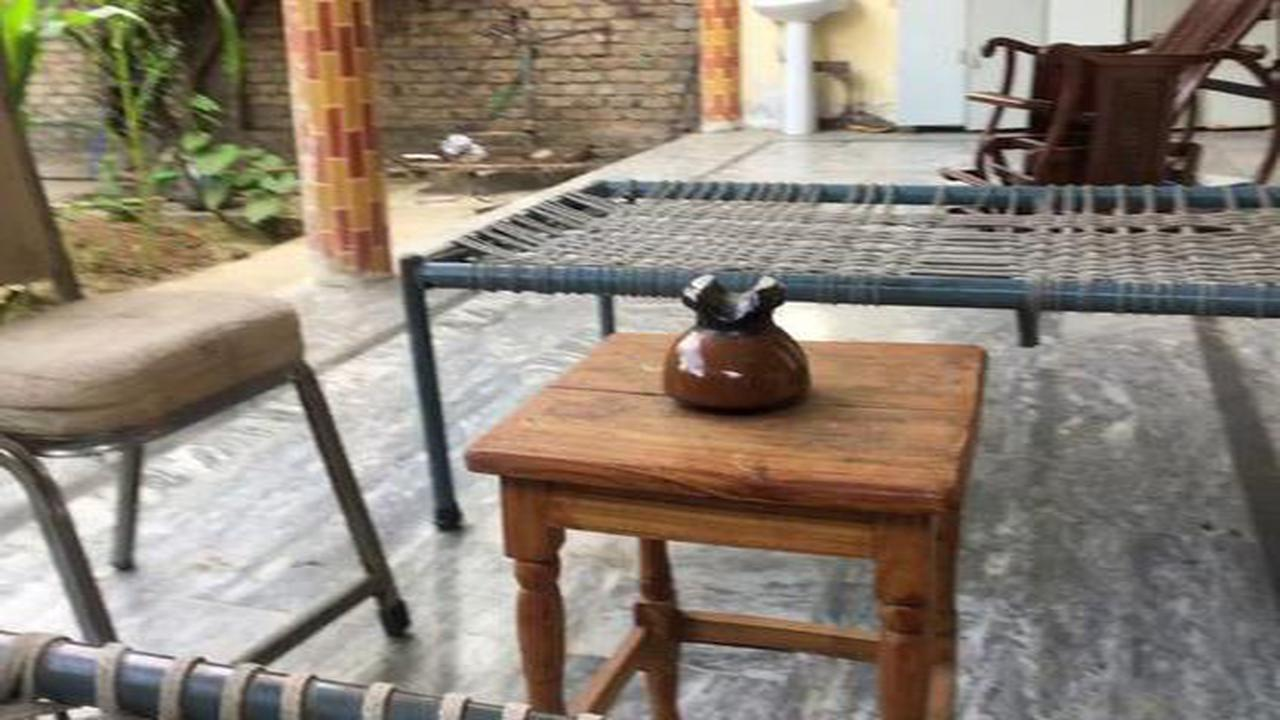insulator_pin: (656, 258, 834, 421)
